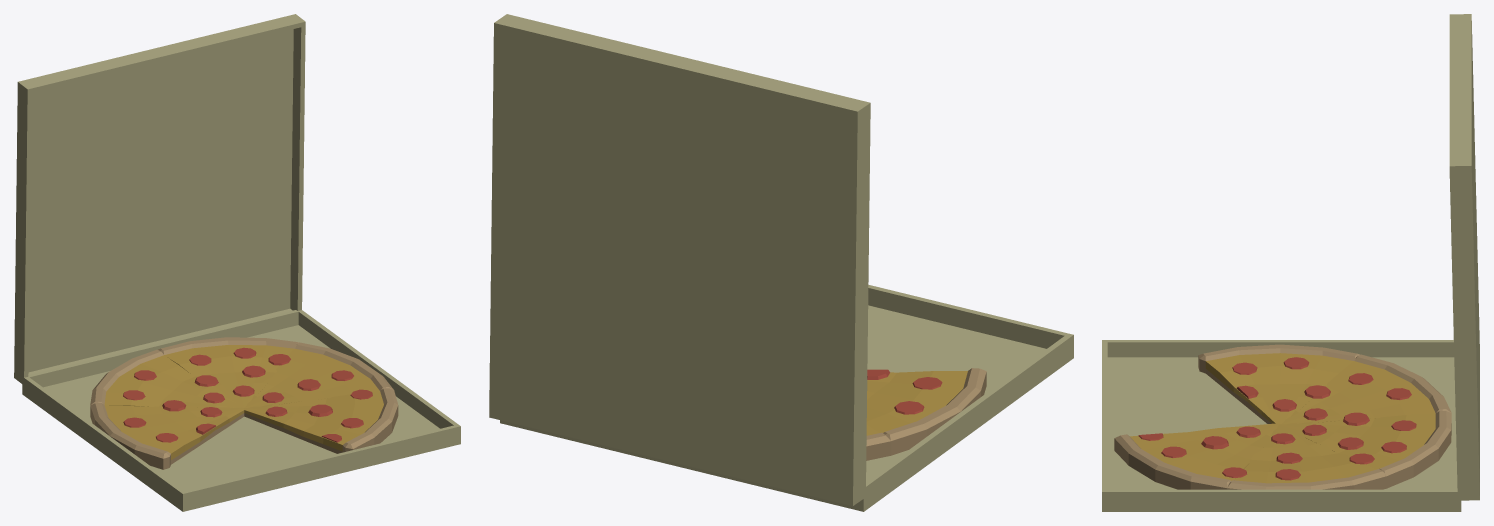
Rendered from pizza inbox.fbx.
3 views of the same model, side by side, from view 1: azimuth 30°, elevation 25°; view 2: azimuth 150°, elevation 25°; view 3: azimuth 270°, elevation 25° (orthographic). The views are drawn at different scales.
Visible parts, largest first — view 1: pizza_box2, Pizza_missing_slice; view 2: pizza_box2, Pizza_missing_slice; view 3: pizza_box2, Pizza_missing_slice.
Part boxes in pixels (box(x1,y1,x2,y2)): pizza_box2: box(14, 14, 460, 511); Pizza_missing_slice: box(90, 337, 398, 469); pizza_box2: box(489, 14, 1073, 511); Pizza_missing_slice: box(866, 368, 986, 460); pizza_box2: box(1102, 14, 1479, 511); Pizza_missing_slice: box(1114, 344, 1451, 489).
Bounding box in the file's own units: 31.78 × 33.79 × 33.43.
